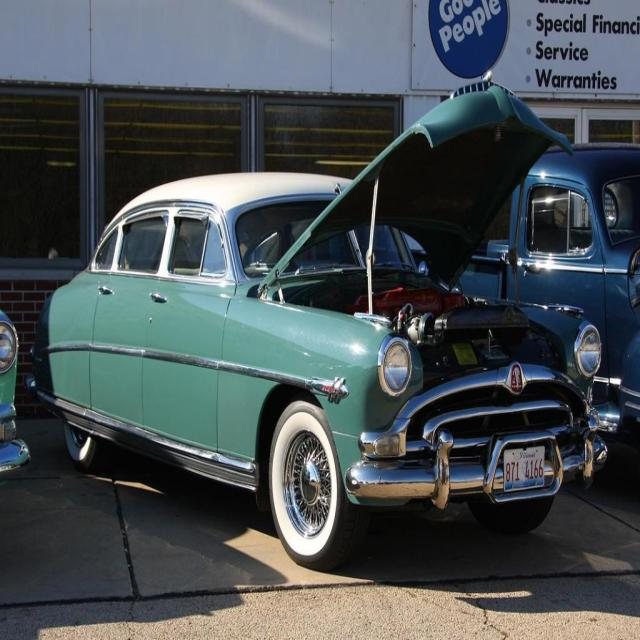car: (36, 122, 628, 575)
